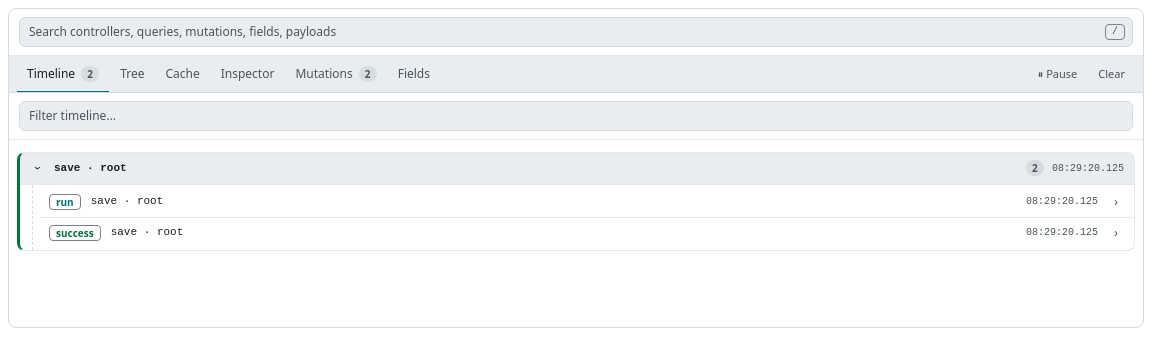
Test case: Timeline cause groups › the group head collapses and re-expands the chain
Click the button with class "olas-devtools-tl-group-head".
click(90, 168)  # box [20, 153, 1134, 184]
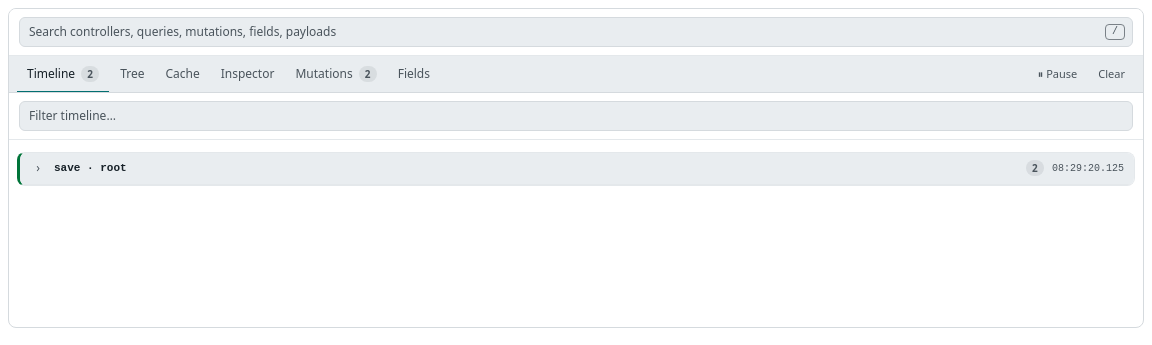
expect the element with class "olas-devtools-tl-group-body" is gone: met
Click the button with class "olas-devtools-tl-group-head".
click(90, 168)  # box [20, 153, 1134, 184]
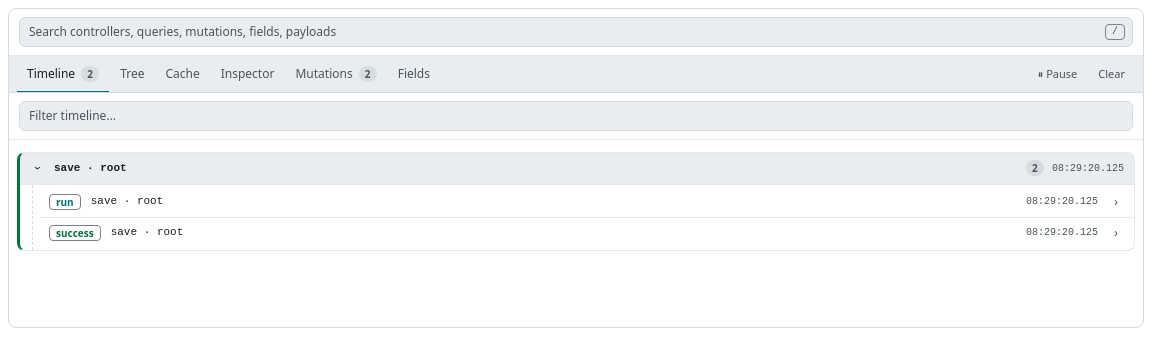
expect the element with class "olas-devtools-tl-group-body" is shown: met, box [32, 184, 1134, 250]
